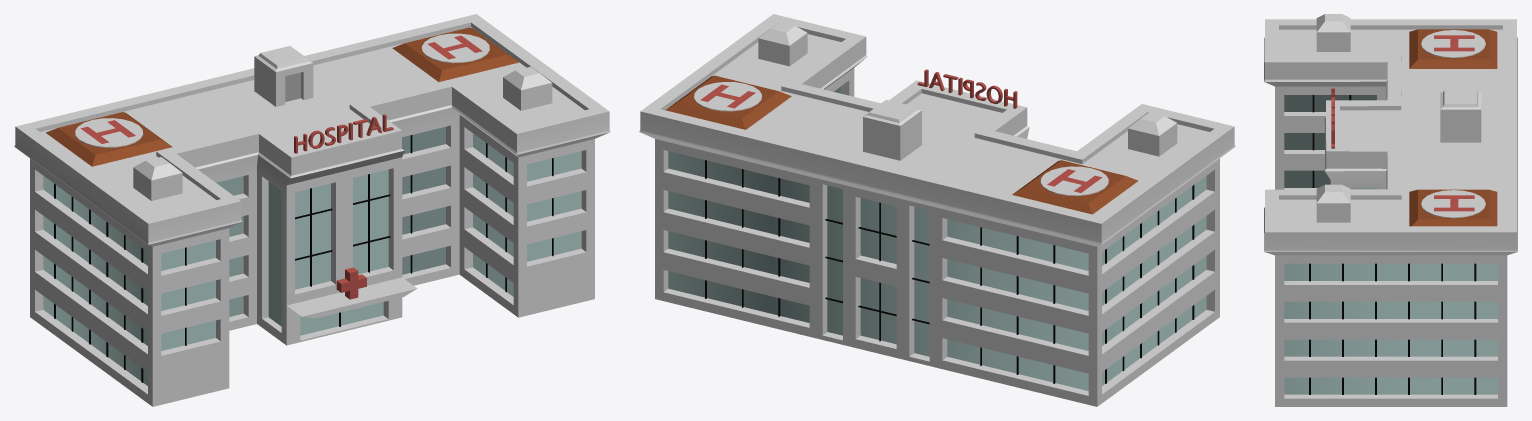
File: Hosipital.fbx
3 renders of one model, left to right at view 1: azimuth 30°, elevation 25°; view 2: azimuth 150°, elevation 25°; view 3: azimuth 270°, elevation 25°, orthographic. The views are drawn at different scales.
Visible parts, largest first — view 1: H_Main, H_Glass, H_Top_03 (×2), H_Top_01, H_Top_02, Plate (×2), H_L, Cross; view 2: H_Main, H_Glass, H_Top_03 (×2), H_Top_01, H_Top_02, Plate (×2), H_L; view 3: H_Main, H_Glass, H_Top_03 (×2), H_Top_01, Plate (×2), H_Top_02, H (×2), H_L.
Boxes of the visible parts, x1,y1,x2,y2 form: H_Main: (14,14,610,406); H_Glass: (43,126,581,385); H_Top_03 (×2): (46,27,518,166); H_Top_01: (133,66,552,200); H_Top_02: (254,46,313,106); Plate (×2): (75,33,489,147); H_L: (294,114,393,153); Cross: (336,267,366,299); H_Main: (639,14,1235,406); H_Glass: (668,86,1206,390); H_Top_03 (×2): (665,75,1138,214); H_Top_01: (758,22,1177,156); H_Top_02: (863,99,921,160); Plate (×2): (694,82,1108,195); H_L: (917,69,1017,108); H_Main: (1264,19,1517,406); H_Glass: (1284,95,1497,394); H_Top_03 (×2): (1409,29,1497,226); H_Top_01: (1316,14,1350,222); Plate (×2): (1421,30,1485,218); H_Top_02: (1440,90,1481,142); H (×2): (1434,35,1474,211); H_L: (1331,88,1334,148).
Bounding box in the file's own units: 170 × 78.64 × 85.55.
